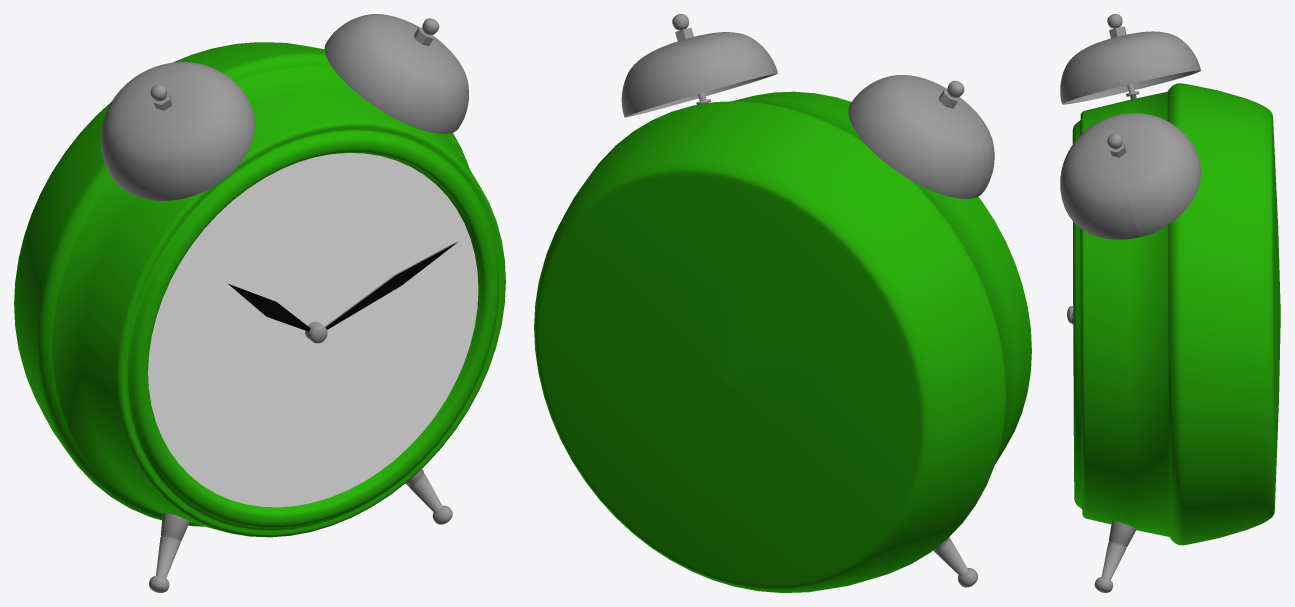
File: Clock.FBX
The picture shows the model from 3 angles, left to right: view 1: azimuth 30°, elevation 25°; view 2: azimuth 150°, elevation 25°; view 3: azimuth 270°, elevation 25°; orthographic projection. The views are drawn at different scales.
Parts seen in each view (by area): view 1: ClockPanel, ClockBody, Bells, ClockLegs, ArrowMinute, ArrowHour; view 2: ClockBody, Bells, ClockLegs; view 3: ClockBody, Bells, ClockLegs, BellCaps, BellScrews.
Boxes of the visible parts, x1,y1,x2,y2 form: ClockPanel: (148, 153, 478, 507); ClockBody: (14, 42, 505, 537); Bells: (100, 14, 468, 200); ClockLegs: (149, 469, 452, 592); ArrowMinute: (325, 242, 457, 329); ArrowHour: (228, 284, 310, 331); ClockBody: (534, 91, 1031, 592); Bells: (621, 32, 994, 198); ClockLegs: (933, 537, 977, 587); ClockBody: (1072, 83, 1280, 545); Bells: (1060, 31, 1200, 239); ClockLegs: (1094, 521, 1136, 592); BellCaps: (1107, 14, 1139, 149); BellScrews: (1109, 26, 1126, 157).
Size of the model in its own units: 22.45 by 24.39 by 10.71.
